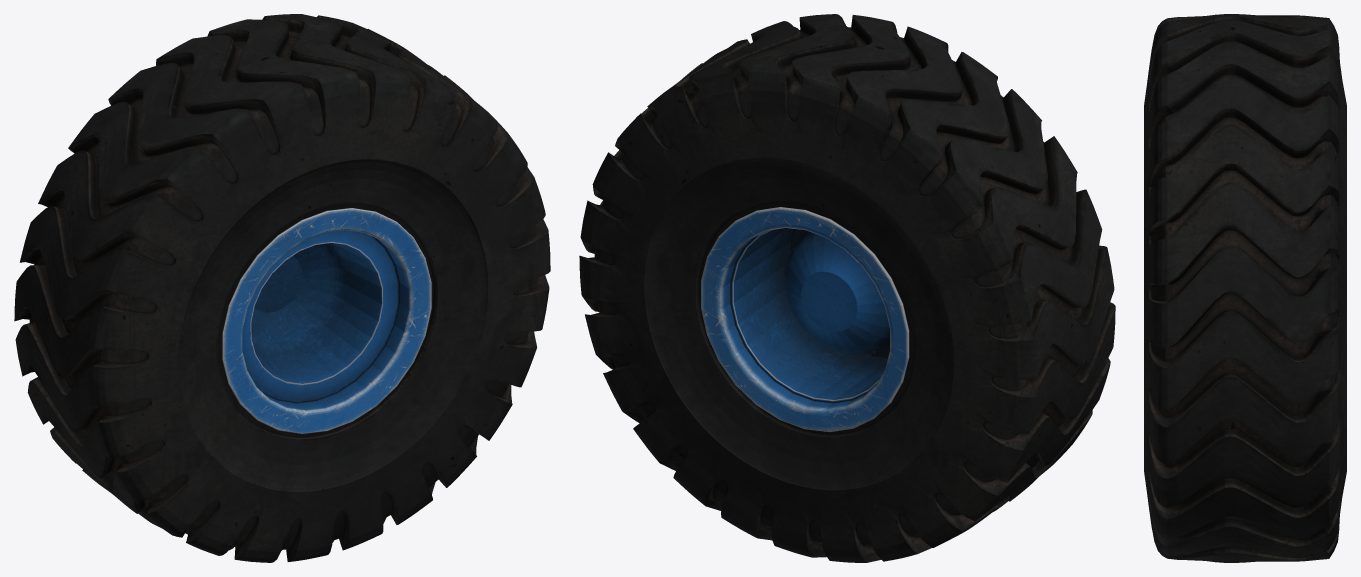
File: tractor_lug.glb
The picture shows the model from 3 angles, left to right: view 1: azimuth 30°, elevation 25°; view 2: azimuth 150°, elevation 25°; view 3: azimuth 270°, elevation 25°; orthographic projection. The views are drawn at different scales.
Parts seen in each view (by area): view 1: tractor_lug_1, tractor_lug_0; view 2: tractor_lug_1, tractor_lug_0; view 3: tractor_lug_1.
Boxes of the visible parts, bbox=[...] form: tractor_lug_1: bbox=[14, 14, 550, 562]; tractor_lug_0: bbox=[222, 208, 431, 433]; tractor_lug_1: bbox=[579, 14, 1115, 562]; tractor_lug_0: bbox=[701, 207, 909, 431]; tractor_lug_1: bbox=[1144, 14, 1346, 562].
Size of the model in its own units: 0.9992 by 1 by 0.3693.
Materials: 2 (2 with a texture image).
